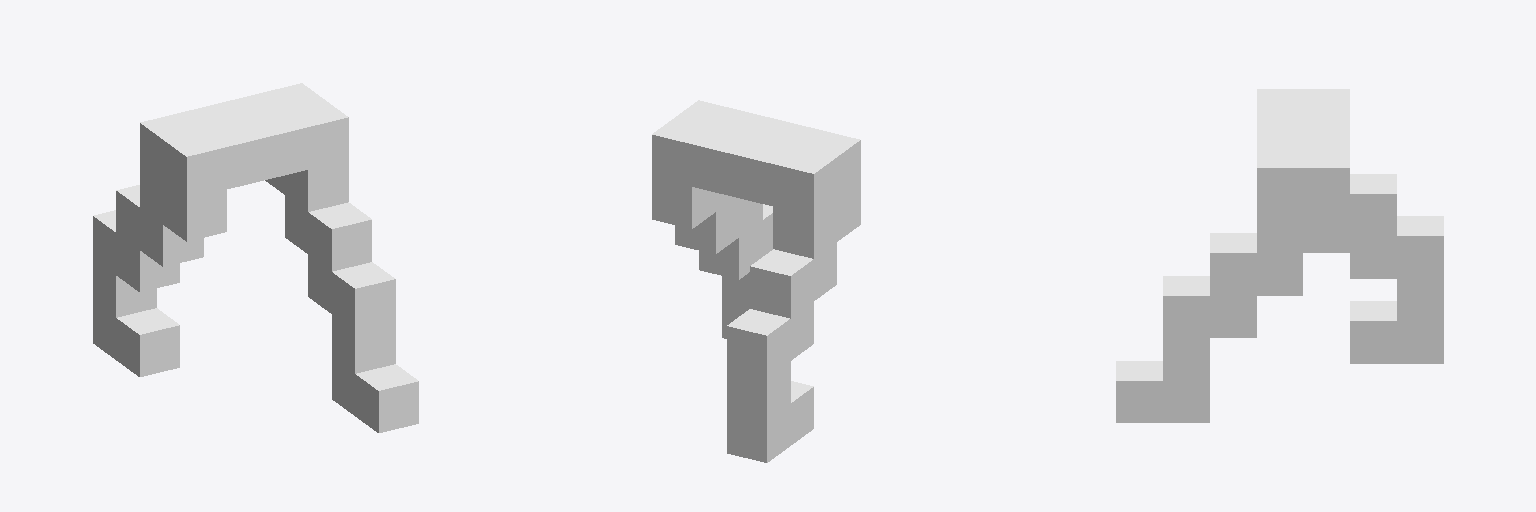
The model's file is legs_walk_2_002.obj.
3 views of the same model, side by side, from view 1: azimuth 30°, elevation 25°; view 2: azimuth 150°, elevation 25°; view 3: azimuth 270°, elevation 25° (orthographic).
Bounding box in the file's own units: 4 × 6 × 7.